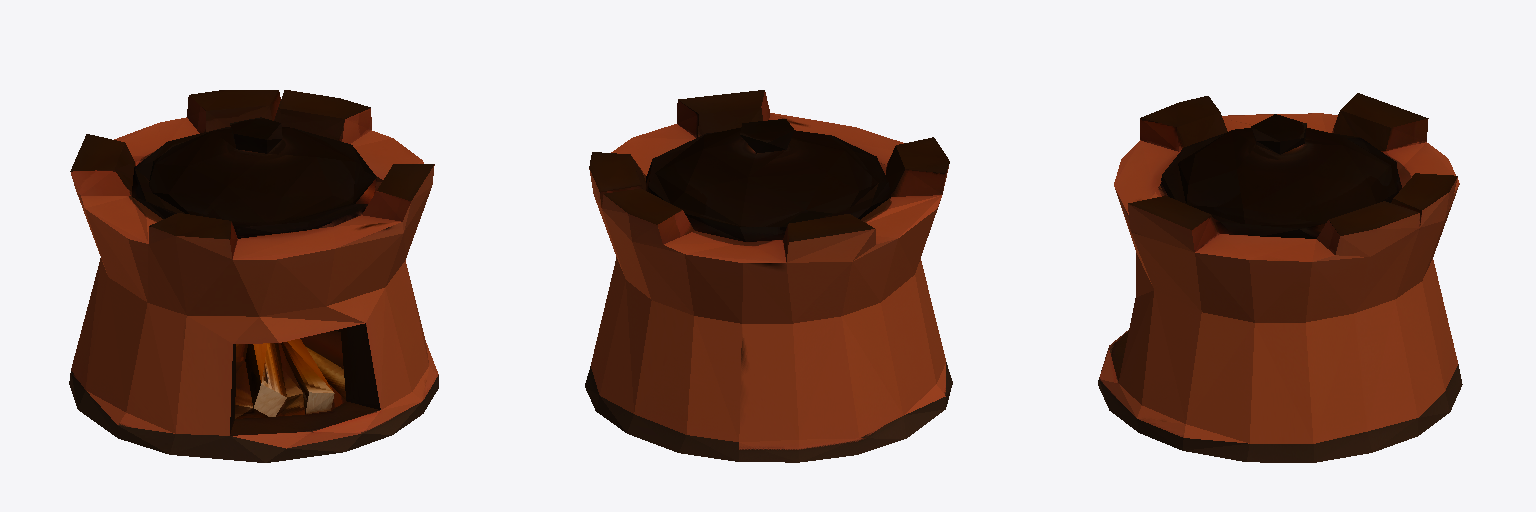
3 renders of one model, left to right at view 1: azimuth 30°, elevation 25°; view 2: azimuth 150°, elevation 25°; view 3: azimuth 270°, elevation 25°, orthographic.
Parts seen in each view (by area): view 1: texture_pbr_v128; view 2: texture_pbr_v128; view 3: texture_pbr_v128.
Part boxes in pixels (x1,y1,x2,y2): texture_pbr_v128: (69, 90, 438, 462); texture_pbr_v128: (585, 90, 952, 462); texture_pbr_v128: (1098, 93, 1462, 462).
Bounding box in the file's own units: 0.9344 × 0.7326 × 0.9326.
1 materials, 1 textured.